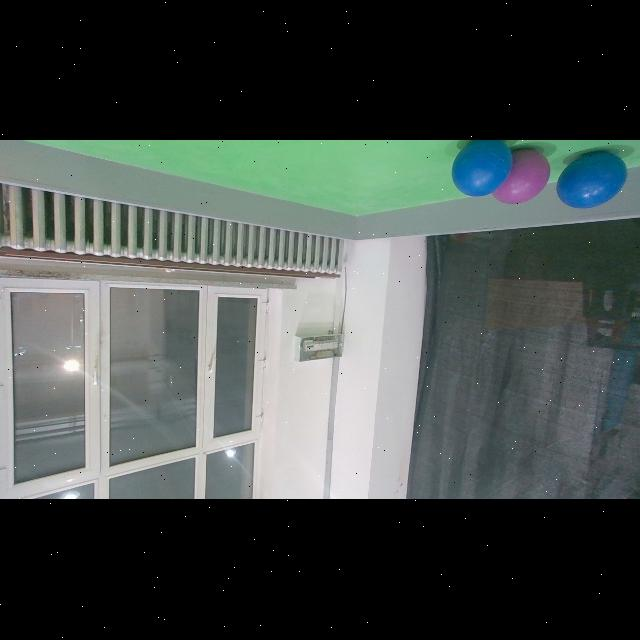B: (556, 152, 628, 208), (452, 140, 512, 198)
P: (491, 146, 555, 208)
